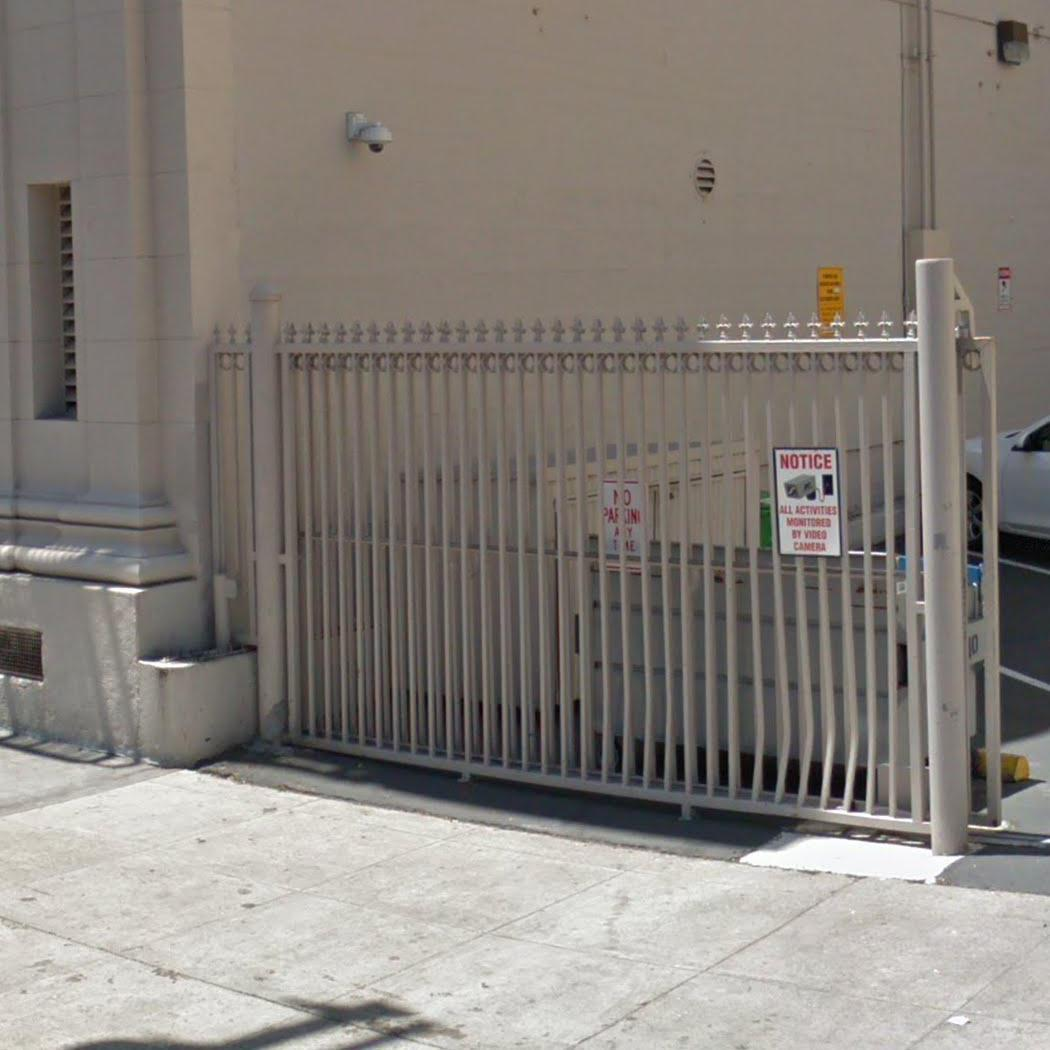No Parking Anytime: (600, 481, 650, 560)
